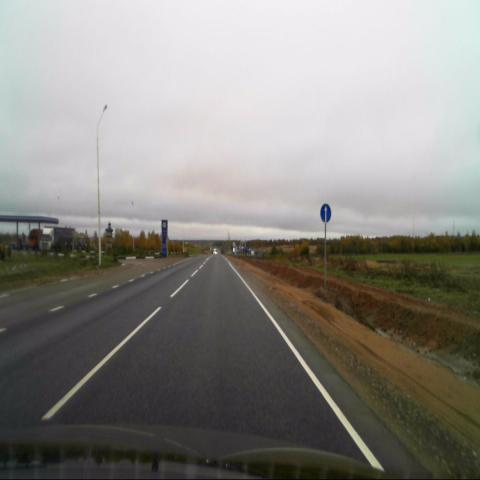4_1_1: (320, 203, 331, 223)
